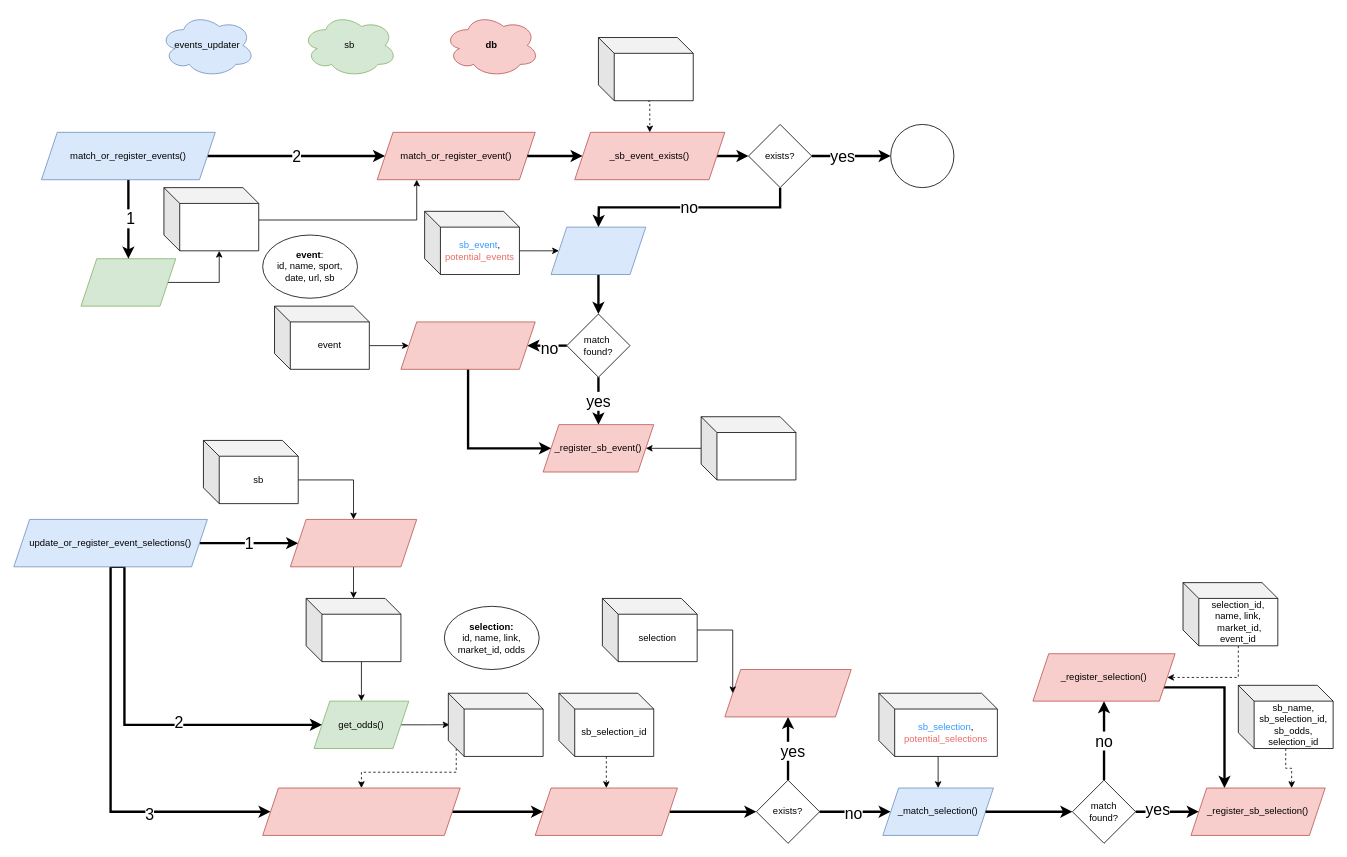
Some shapes in this 1347 by 857 pixel diagram are drawn without their labels. Here are the shapes that lost their labels. From the top down, the box of each, then its label:
(598, 37, 693, 101): sb_event_id
(890, 124, 954, 188): Return, no actions needed
(163, 187, 259, 251): events
(550, 226, 646, 275): _match_event()
(80, 258, 176, 306): get_events()
(400, 321, 535, 369): _register_event()
(700, 416, 796, 480): sb_name, sb_event_id, sb_event_url, event_id
(290, 519, 417, 567): get_events_url()
(305, 598, 401, 662): urls
(724, 669, 851, 717): _update_odds()
(448, 692, 543, 756): selections
(262, 787, 460, 835): update_or_register_event_selection()
(534, 787, 677, 835): _sb_selection_exists()
